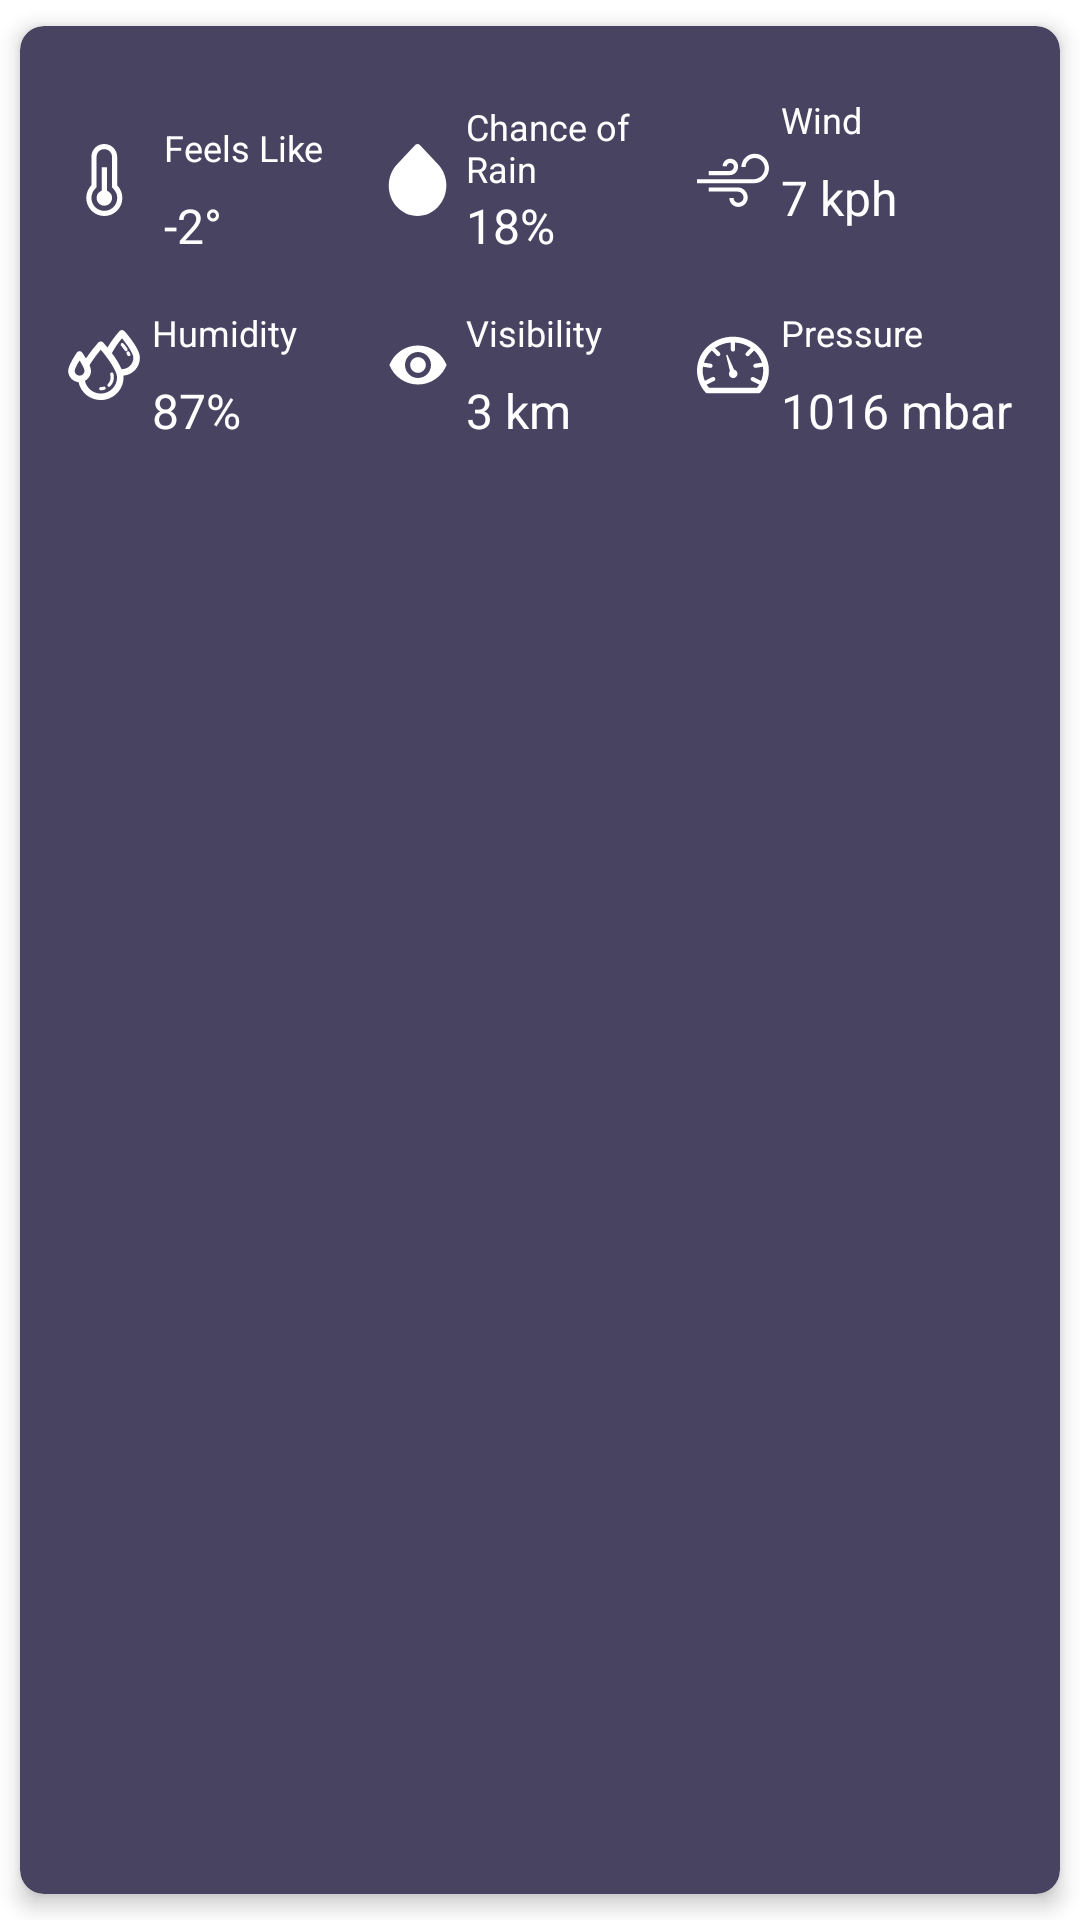

Screen size 1080 × 1920. Icon name, then its center in pixels as (x=x, y=y):
drop: (x=417, y=180)
thermometer: (x=104, y=180)
